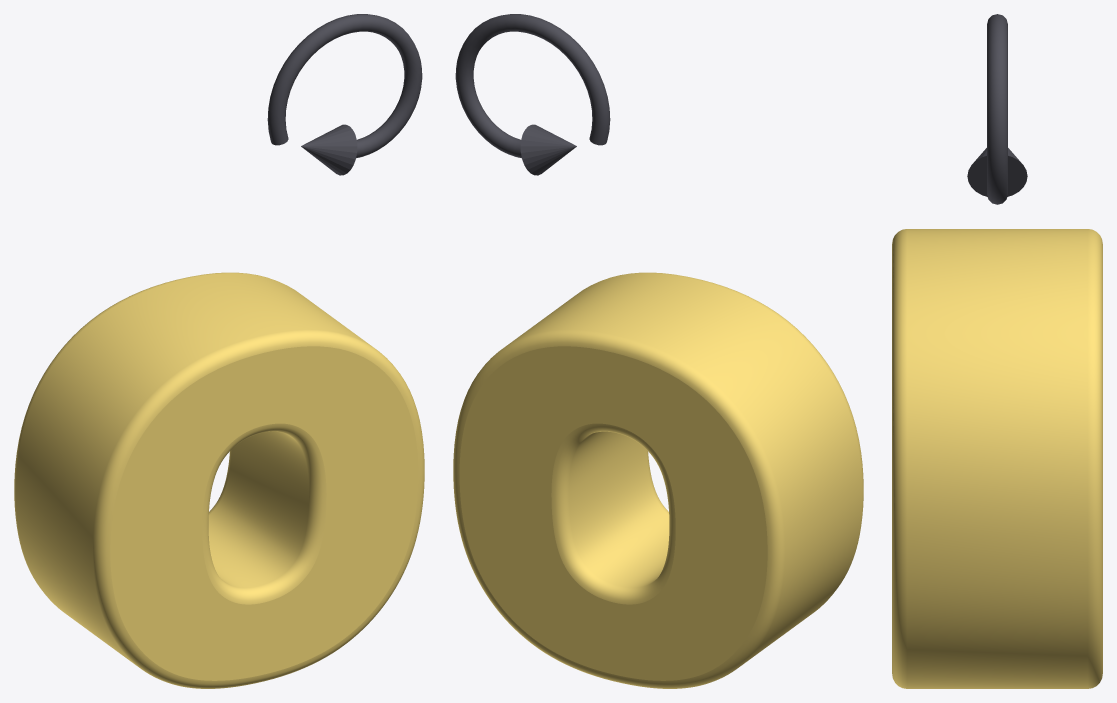
3 renders of one model, left to right at view 1: azimuth 30°, elevation 25°; view 2: azimuth 150°, elevation 25°; view 3: azimuth 270°, elevation 25°, orthographic. The views are drawn at different scales.
Parts seen in each view (by area): view 1: Lettre_O, Boucle, Fleche; view 2: Lettre_O, Boucle, Fleche; view 3: Lettre_O, Boucle, Fleche.
Part boxes in pixels (<box>): Lettre_O: <box>14,272,424,688</box>; Boucle: <box>267,14,422,158</box>; Fleche: <box>301,124,357,175</box>; Lettre_O: <box>453,272,863,688</box>; Boucle: <box>455,14,610,158</box>; Fleche: <box>520,124,576,175</box>; Lettre_O: <box>892,229,1102,688</box>; Boucle: <box>987,14,1007,204</box>; Fleche: <box>967,148,1027,196</box>.
Size of the model in its own units: 1.65 by 2.61 by 0.7.
